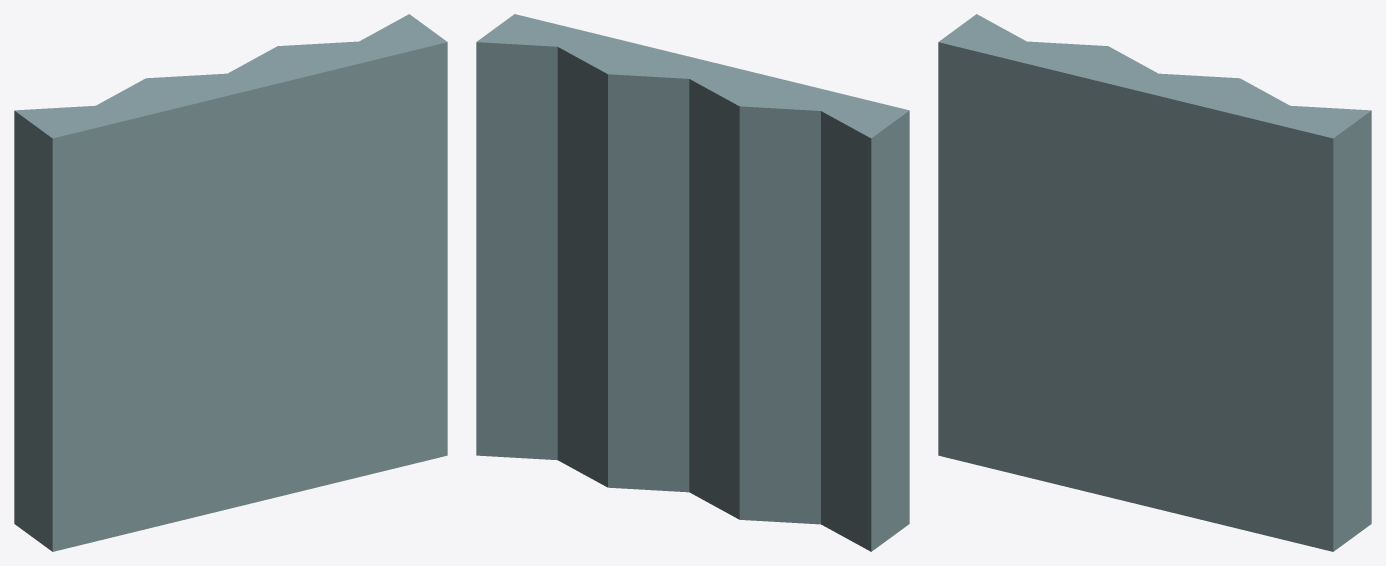
The model's file is cliff_stone.glb.
3 renders of one model, left to right at view 1: azimuth 30°, elevation 25°; view 2: azimuth 150°, elevation 25°; view 3: azimuth 330°, elevation 25°, orthographic.
Visible parts, largest first — view 1: cliff_stone; view 2: cliff_stone; view 3: cliff_stone.
Boxes of the visible parts, x1,y1,x2,y2 form: cliff_stone: (14,14,447,551); cliff_stone: (476,14,909,551); cliff_stone: (938,14,1371,551).
Size of the model in its own units: 1.16 by 1.16 by 0.1957.
